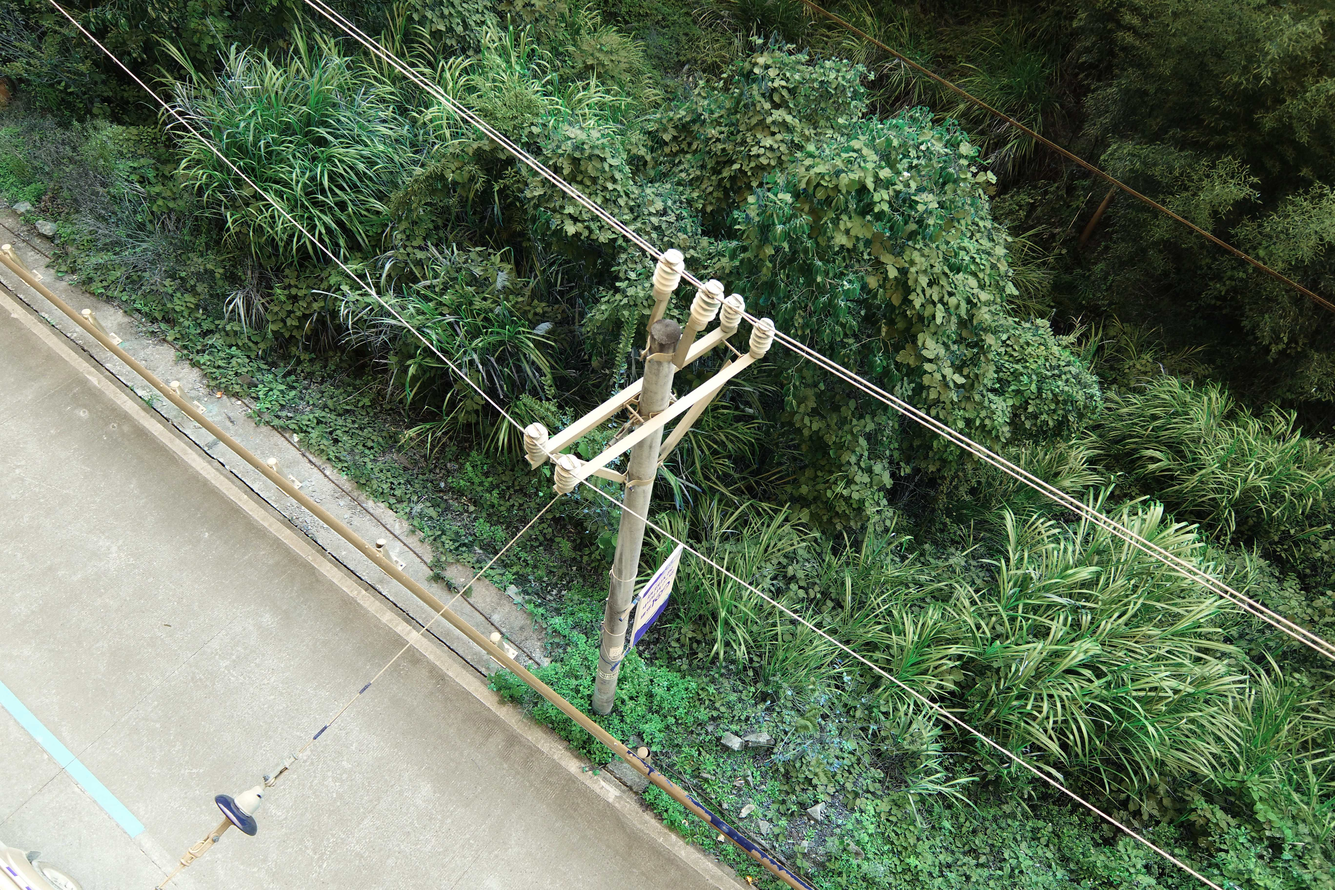severe_soiling_no_discharge_whole: (688, 277, 724, 332), (552, 453, 584, 495), (521, 420, 551, 462), (748, 316, 777, 359), (718, 292, 747, 333)
